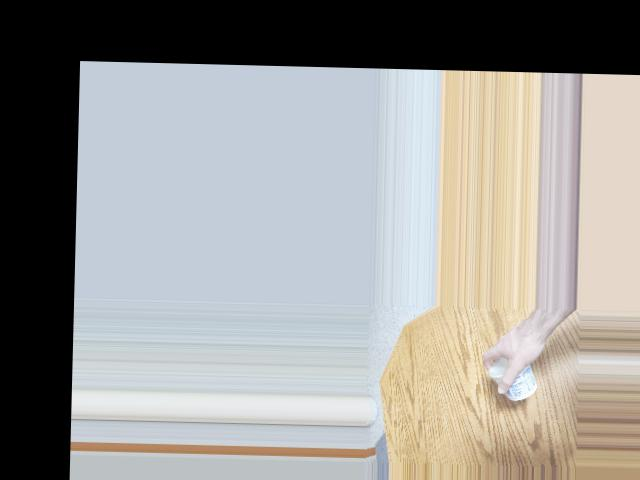cotage: (488, 349, 543, 396)
